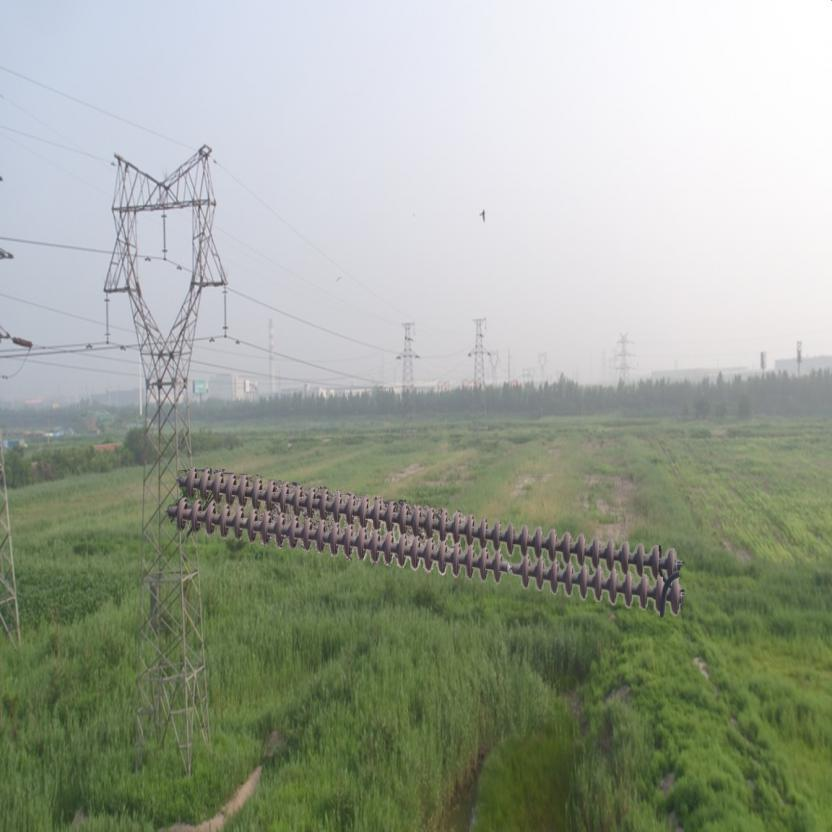defect: (486, 548, 535, 590)
